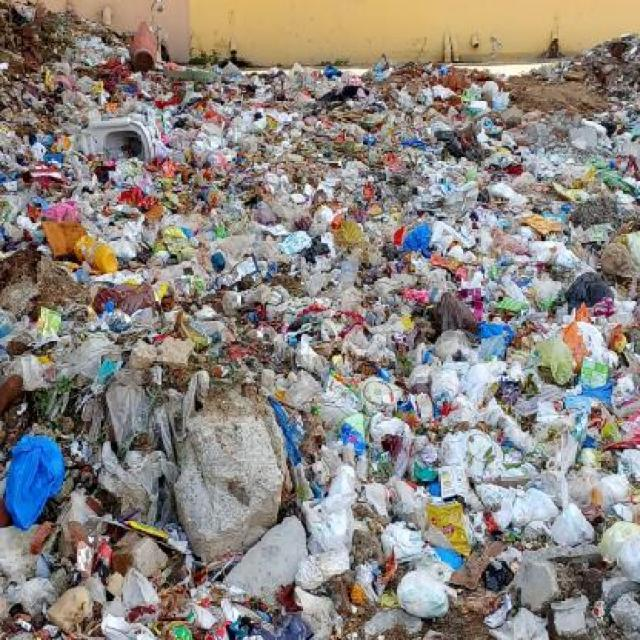garbage: (2, 63, 640, 640), (0, 2, 164, 70)
